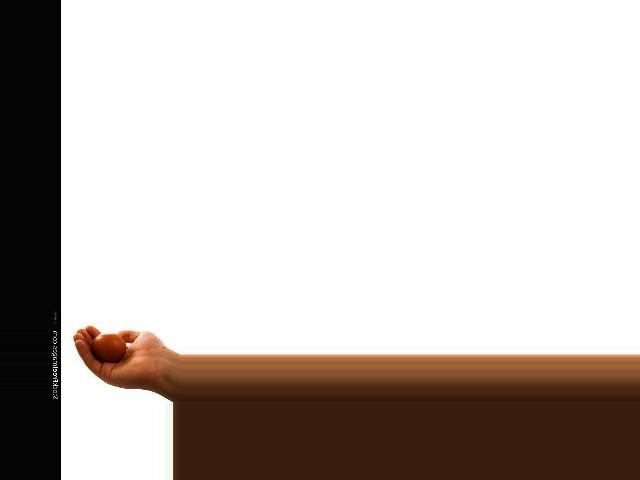egg: (89, 333, 126, 361)
